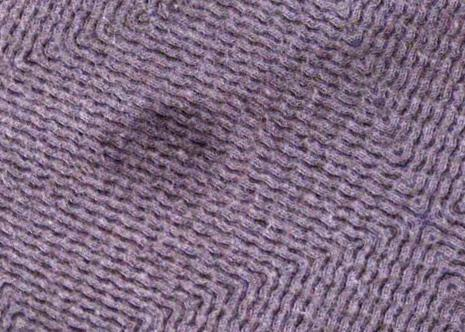stain: (99, 96, 231, 192)
